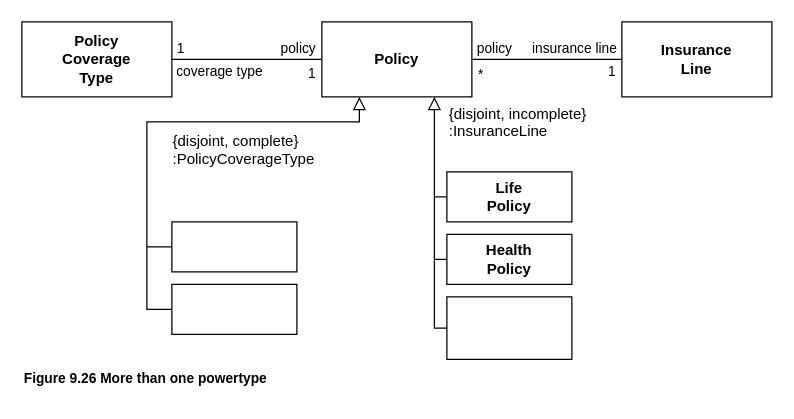
The diagram is 794 pixels wide and 419 high, and some of its shapes have lost their labels. Here are the shapes that lost their labels. From the top down, the centre of each, then its label:
At point 234,246: "Group Policy".
At point 234,308: "Individual Policy".
At point 509,327: "Property/ Casualty Policy".
